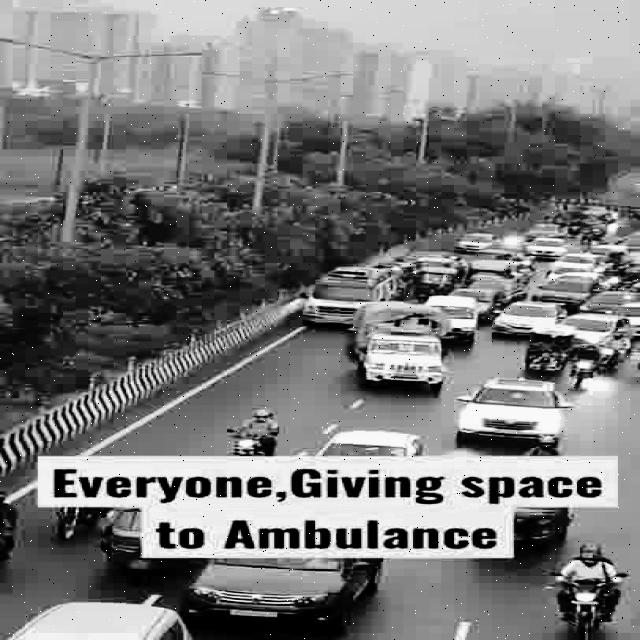Ambulance: (305, 266, 403, 322)
